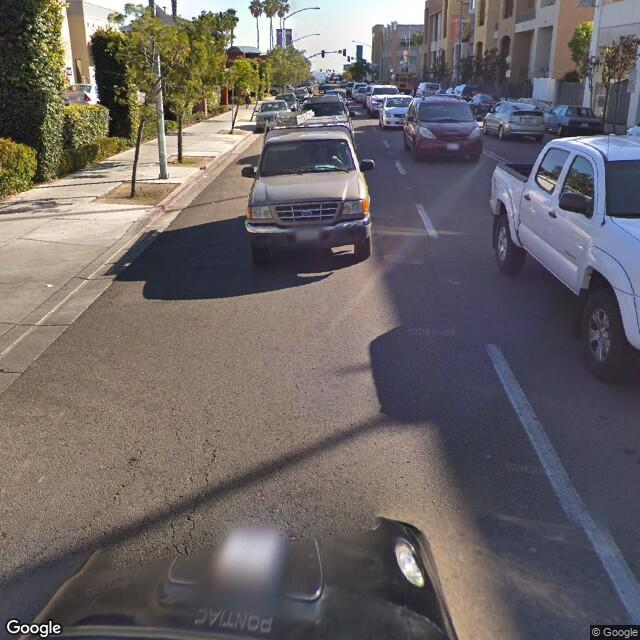road line: (410, 187, 461, 283)
